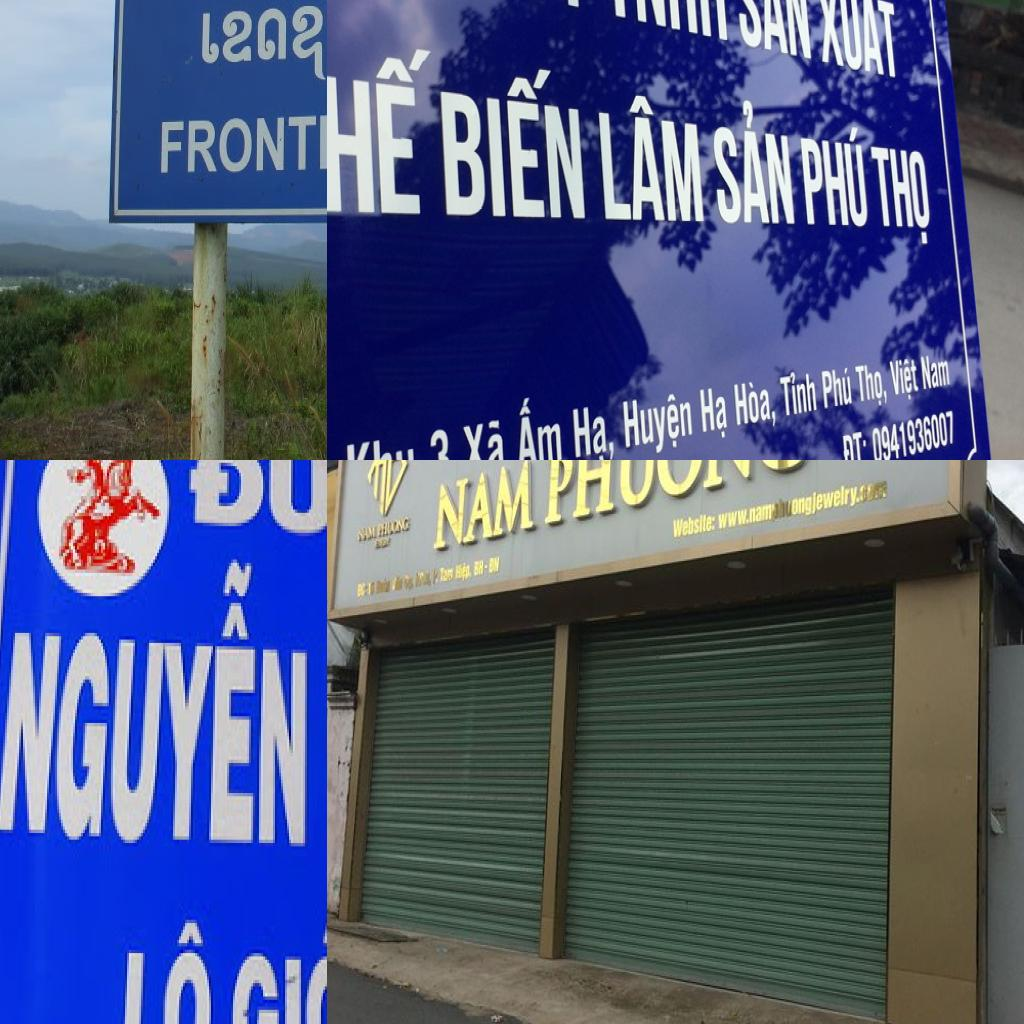text: (0, 529, 313, 853), (438, 54, 593, 228), (327, 19, 436, 226), (540, 460, 814, 527), (590, 87, 709, 231), (187, 460, 327, 556), (704, 100, 798, 231), (159, 108, 327, 176), (229, 913, 327, 1024), (119, 916, 215, 1024), (429, 460, 539, 554), (718, 477, 889, 534), (865, 136, 937, 247), (799, 121, 871, 231), (816, 0, 902, 85), (597, 0, 731, 46), (620, 385, 700, 458), (732, 0, 814, 71), (511, 391, 566, 460), (568, 394, 619, 460), (730, 371, 780, 432), (694, 377, 736, 445), (459, 411, 512, 460), (776, 366, 820, 422), (340, 432, 418, 460), (854, 358, 891, 411), (820, 360, 855, 414), (887, 353, 922, 406), (920, 348, 956, 398), (424, 412, 459, 460), (833, 420, 871, 460), (672, 511, 717, 541), (378, 516, 410, 538), (356, 524, 377, 542)
